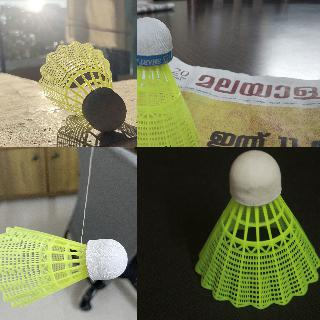shuttlecock: (195, 150, 319, 309), (0, 226, 128, 309), (137, 17, 200, 146), (38, 41, 125, 131)
